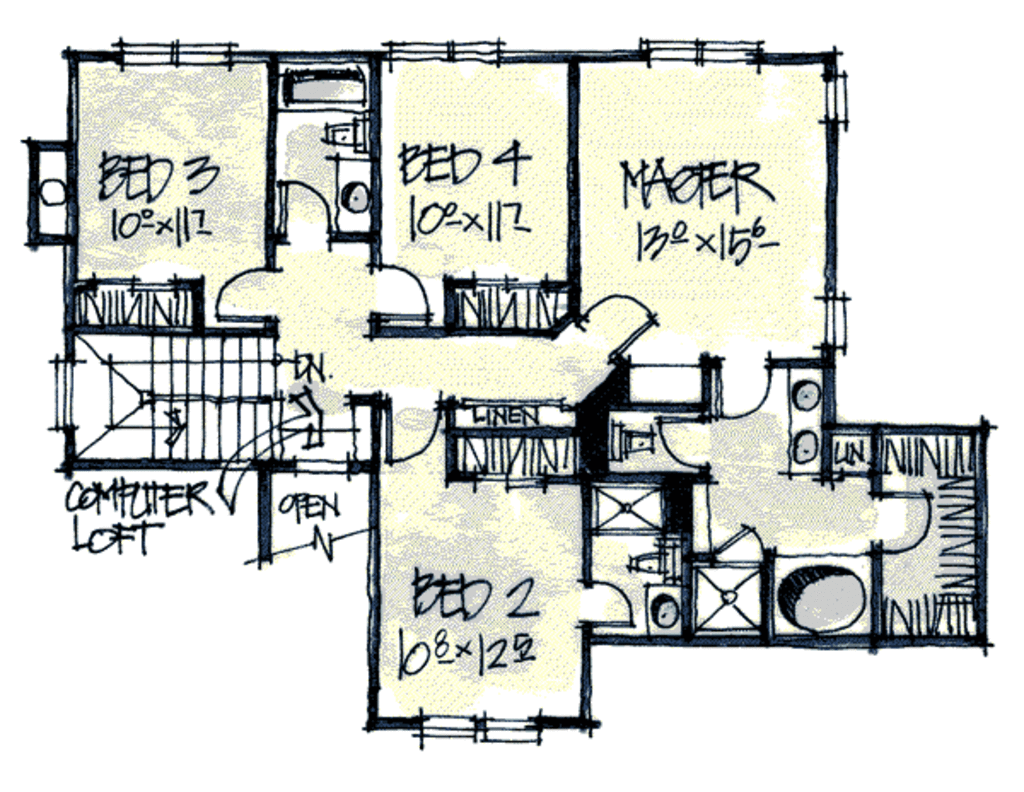door: (577, 286, 671, 356), (201, 266, 301, 330), (868, 485, 946, 563), (376, 397, 448, 467), (366, 255, 433, 327), (577, 564, 641, 636), (276, 170, 340, 242), (659, 415, 725, 483), (716, 360, 774, 425), (703, 519, 778, 561)
large_sink: (622, 530, 685, 580), (321, 107, 371, 158), (600, 419, 658, 460)
small_sink: (782, 364, 838, 474), (339, 149, 372, 234)
stairs: (75, 331, 357, 478)
tub: (270, 62, 372, 109)
window: (636, 32, 772, 72), (107, 36, 241, 73), (383, 34, 510, 66), (816, 285, 859, 350), (824, 77, 853, 128)
